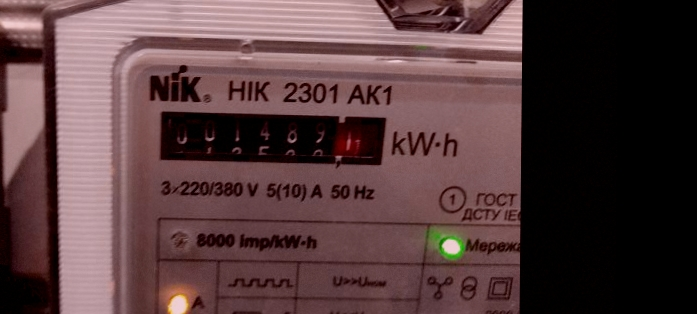0: (200, 116, 216, 141), (173, 120, 188, 145)
1: (229, 115, 243, 144), (341, 122, 353, 152)
4: (256, 116, 272, 143)
8: (282, 117, 299, 144)
9: (311, 119, 326, 144)
screen: (143, 99, 400, 178)
